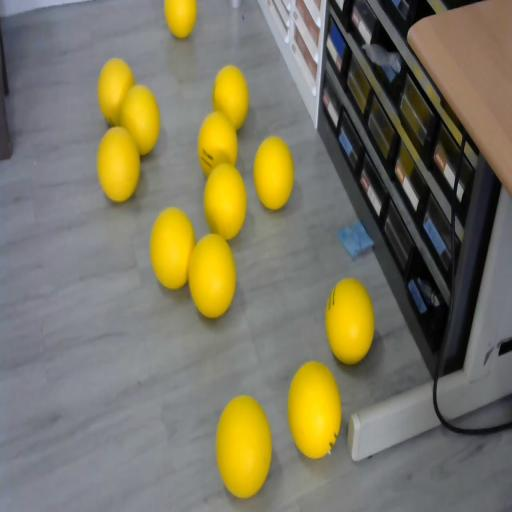FUEL: (215, 394, 272, 497), (286, 360, 342, 458), (187, 231, 237, 318), (326, 277, 374, 364), (148, 205, 196, 289), (203, 162, 247, 240), (96, 126, 140, 202), (253, 136, 294, 210), (98, 57, 135, 126), (212, 65, 250, 129), (164, 0, 197, 39)
